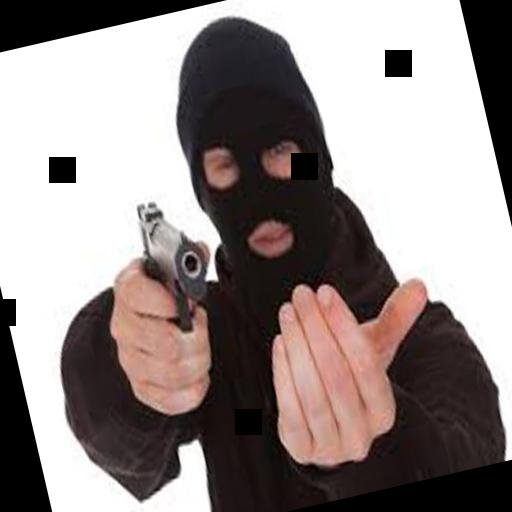Handgun: (119, 182, 218, 342)
